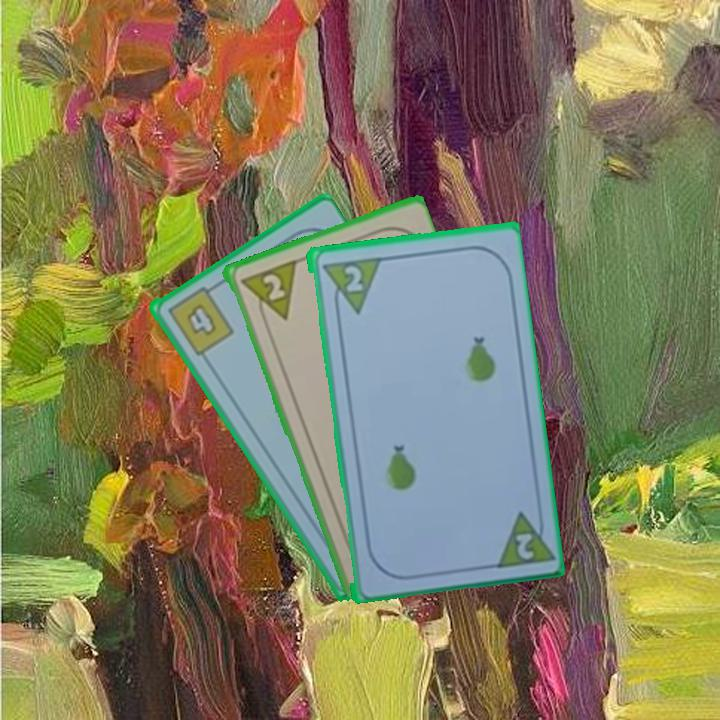2p: (488, 504, 554, 571), (258, 270, 288, 303), (340, 261, 365, 294)
4b: (162, 280, 236, 359)
